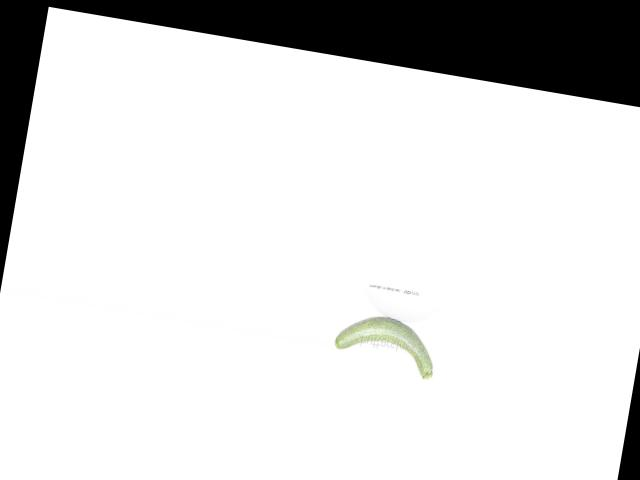cucumber: (331, 309, 440, 380)
